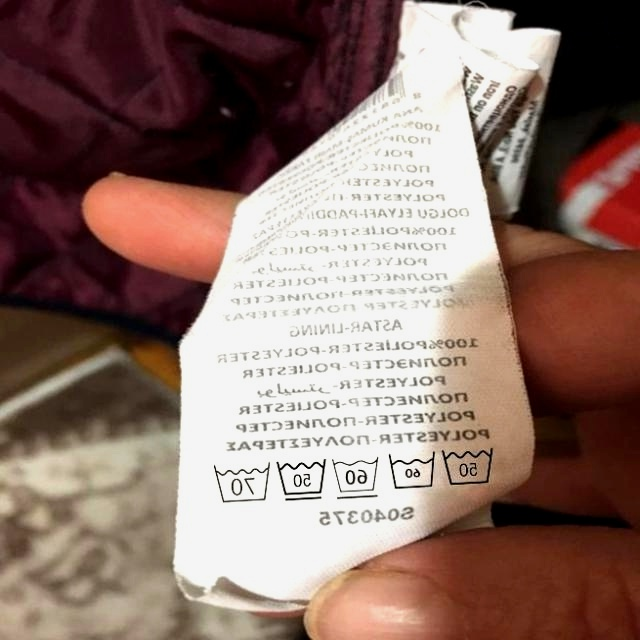50C: (438, 440, 500, 490), (273, 455, 329, 504)
60C: (328, 452, 381, 500), (384, 448, 438, 494)
70C: (207, 460, 271, 505)
